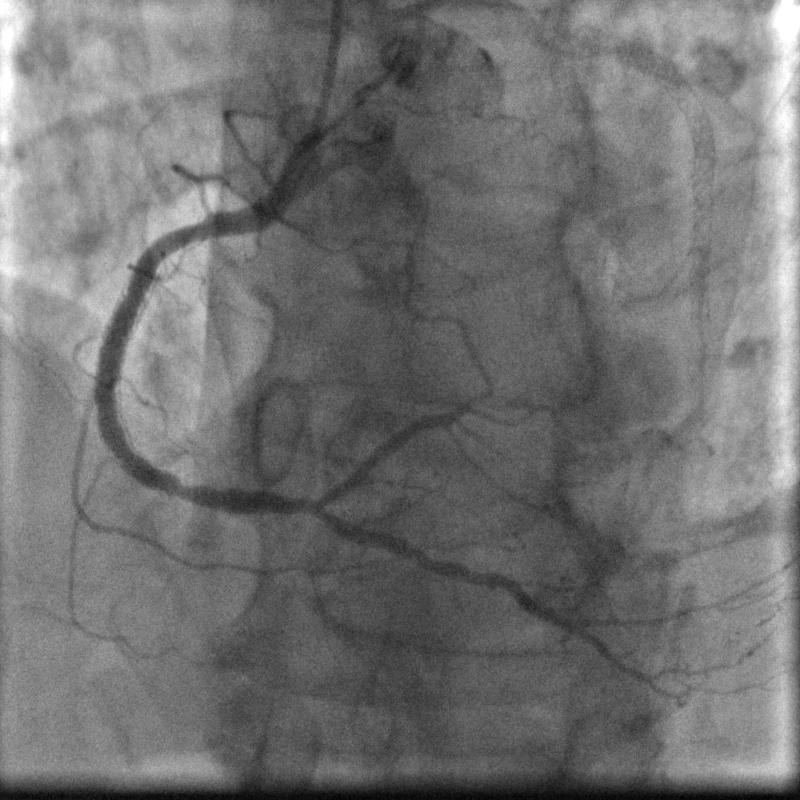Stenosis: (164, 220, 225, 257)
